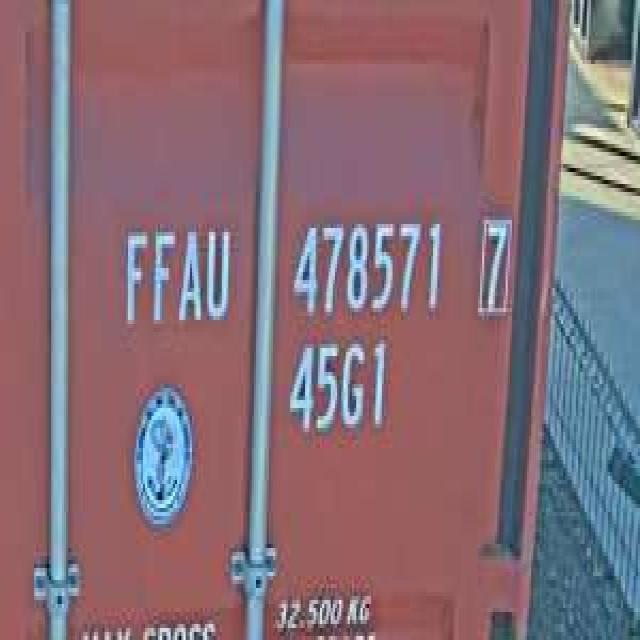dv: (472, 208, 514, 324)
owner: (115, 212, 235, 336)
serial: (286, 204, 446, 328)
size: (284, 332, 390, 444)
